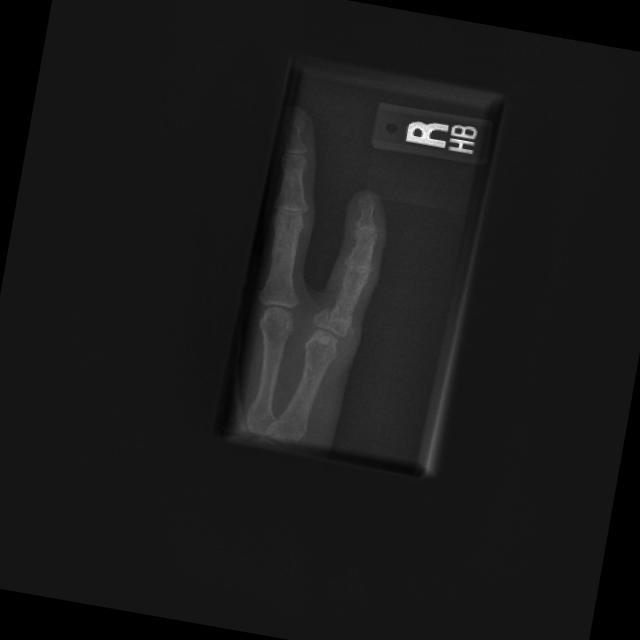fingers positive: (308, 296, 361, 343)
